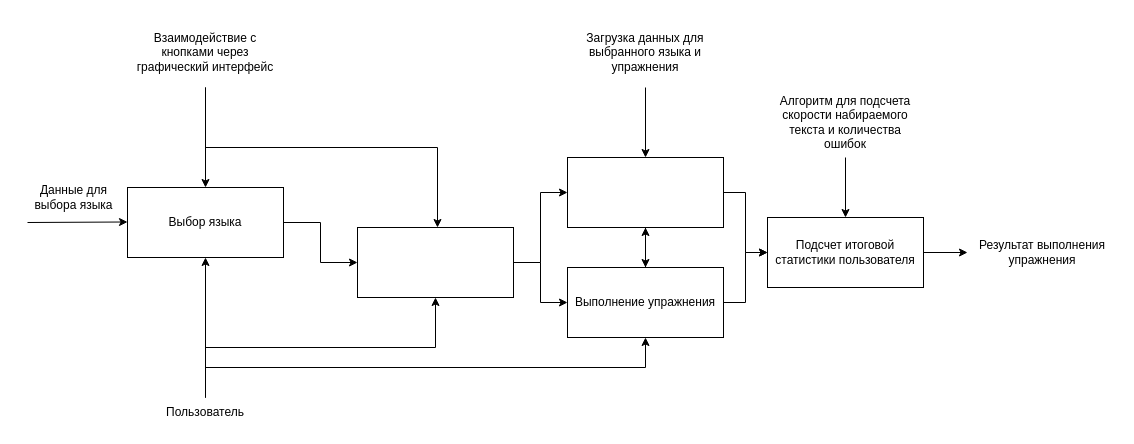
This 1134x444 diagram has some shape labels left out. The shapes that lost their labels are listed below. From the top down, each one's centre as x and y in pixels, then its label:
the point at 645,192: Поле для вывода набираемого текста
the point at 435,262: Выбор упражнения
